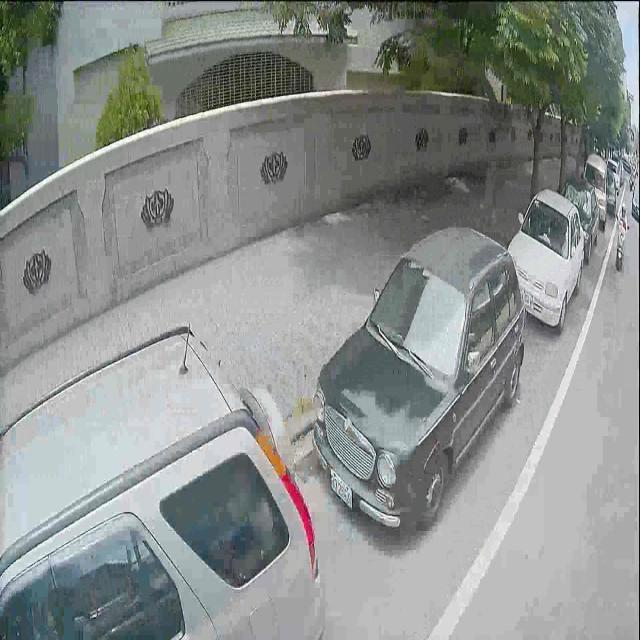person: (618, 206, 626, 227)
